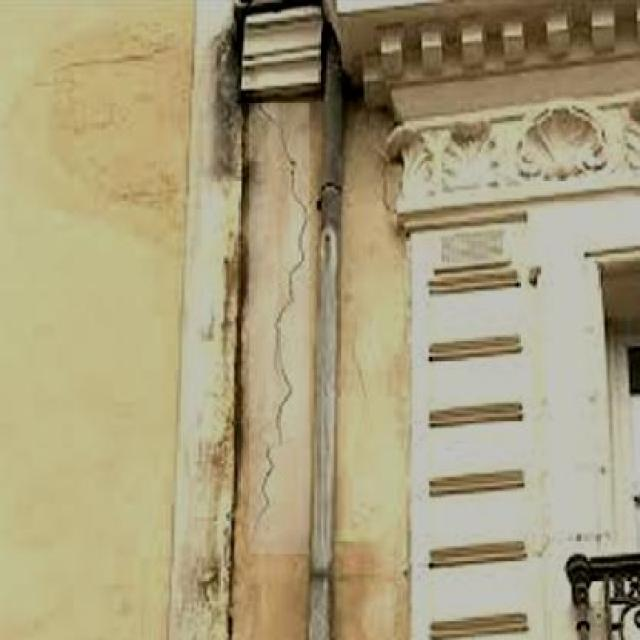Crack: (242, 105, 310, 546)
